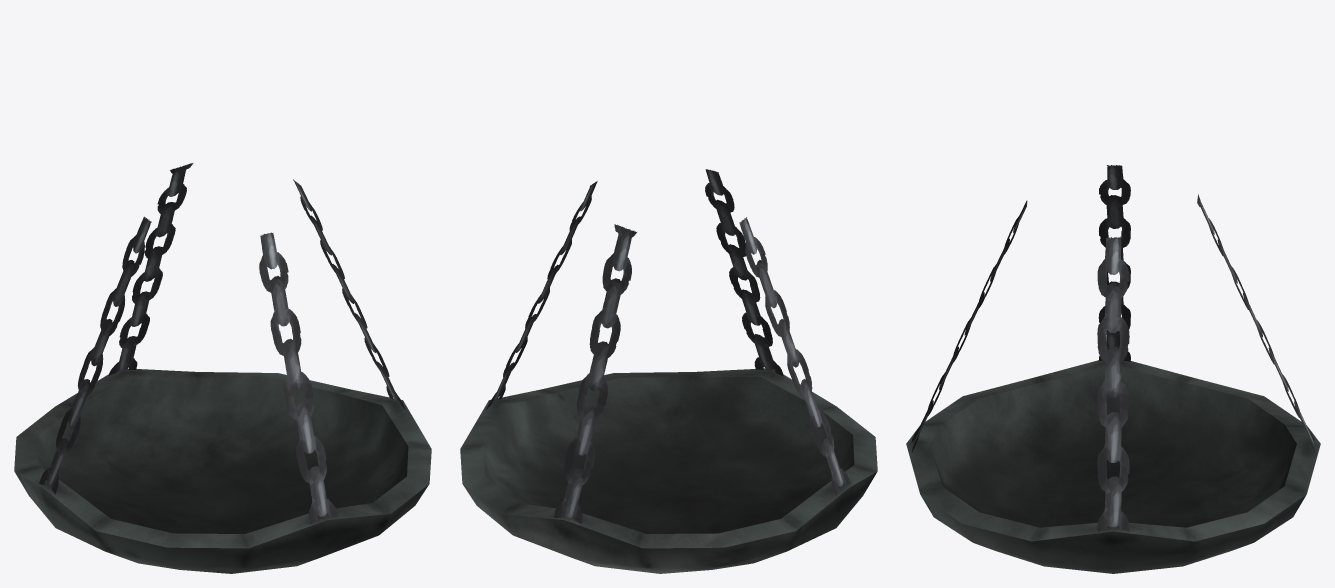
The model's file is Pira_de_Fogo.fbx.
3 views of the same model, side by side, from view 1: azimuth 30°, elevation 25°; view 2: azimuth 150°, elevation 25°; view 3: azimuth 270°, elevation 25° (orthographic).
Visible parts, largest first — view 1: pira1; view 2: pira1; view 3: pira1.
Boxes of the visible parts, x1=… form: pira1: x1=14, y1=163, x2=431, y2=573; pira1: x1=460, y1=169, x2=877, y2=573; pira1: x1=906, y1=165, x2=1320, y2=573.
Size of the model in its own units: 10.65 by 14.38 by 10.65.
